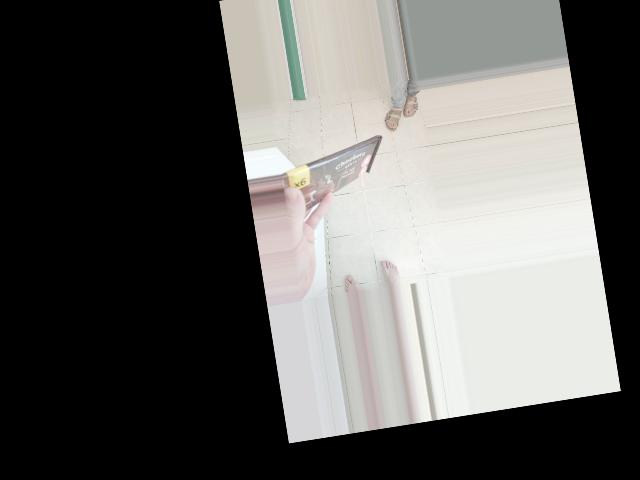chocolate: (324, 128, 407, 243)
